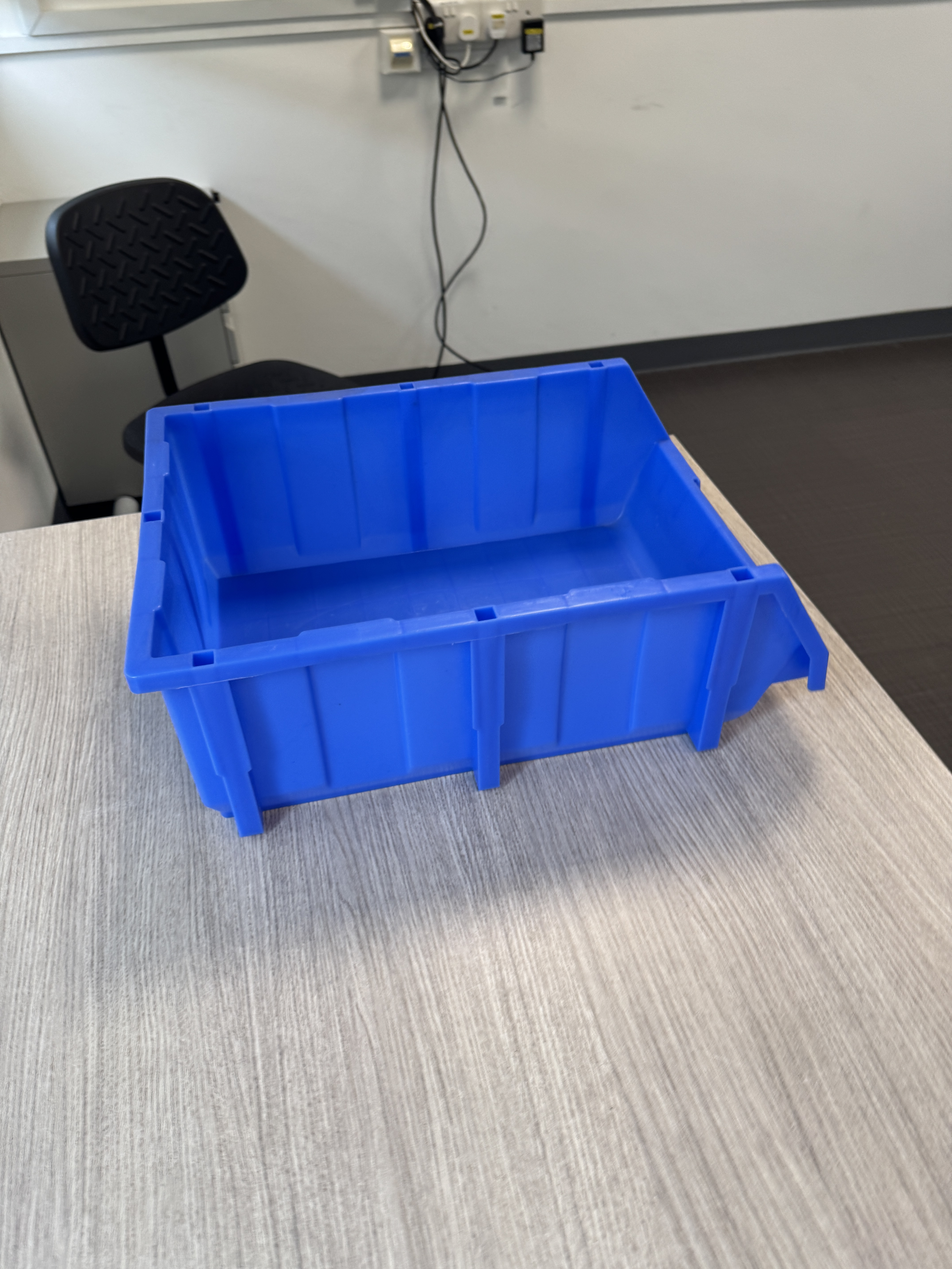Bin Boundary: (122, 352, 758, 659)
